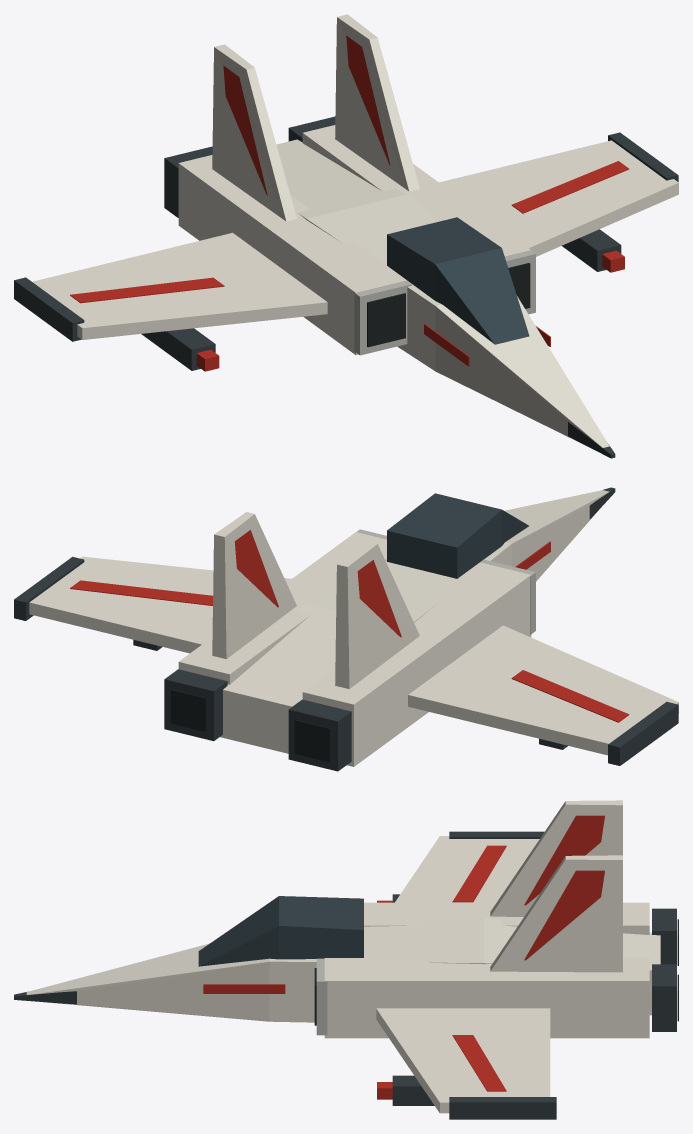
3 renders of one model, top to bottom at view 1: azimuth 30°, elevation 25°; view 2: azimuth 150°, elevation 25°; view 3: azimuth 270°, elevation 25°, orthographic. The views are drawn at different scales.
Parts seen in each view (by area): view 1: jet-a-fleet-armor, jet-a-fleet-glass, jet-a-fleet-machine, jet-a-fleet-red, jet-a-fleet-rubber, jet-a-fleet-edge; view 2: jet-a-fleet-armor, jet-a-fleet-machine, jet-a-fleet-glass, jet-a-fleet-red, jet-a-fleet-rubber, jet-a-fleet-edge; view 3: jet-a-fleet-armor, jet-a-fleet-glass, jet-a-fleet-red, jet-a-fleet-machine, jet-a-fleet-edge.
Part boxes in pixels (x1,y1,x2,y2): jet-a-fleet-armor: [32, 14, 678, 447]; jet-a-fleet-glass: [387, 217, 529, 344]; jet-a-fleet-machine: [14, 116, 678, 458]; jet-a-fleet-red: [70, 35, 628, 371]; jet-a-fleet-rubber: [367, 263, 530, 347]; jet-a-fleet-edge: [354, 250, 535, 355]; jet-a-fleet-armor: [29, 490, 678, 766]; jet-a-fleet-machine: [14, 487, 678, 771]; jet-a-fleet-glass: [387, 493, 528, 578]; jet-a-fleet-red: [70, 530, 629, 722]; jet-a-fleet-rubber: [170, 689, 330, 762]; jet-a-fleet-edge: [357, 529, 535, 634]; jet-a-fleet-armor: [26, 800, 660, 1113]; jet-a-fleet-glass: [198, 896, 363, 966]; jet-a-fleet-red: [203, 815, 604, 1099]; jet-a-fleet-machine: [14, 831, 676, 1119]; jet-a-fleet-edge: [316, 958, 327, 1035].
Bounding box in the file's own units: 59.87 × 18.5 × 62.11.
